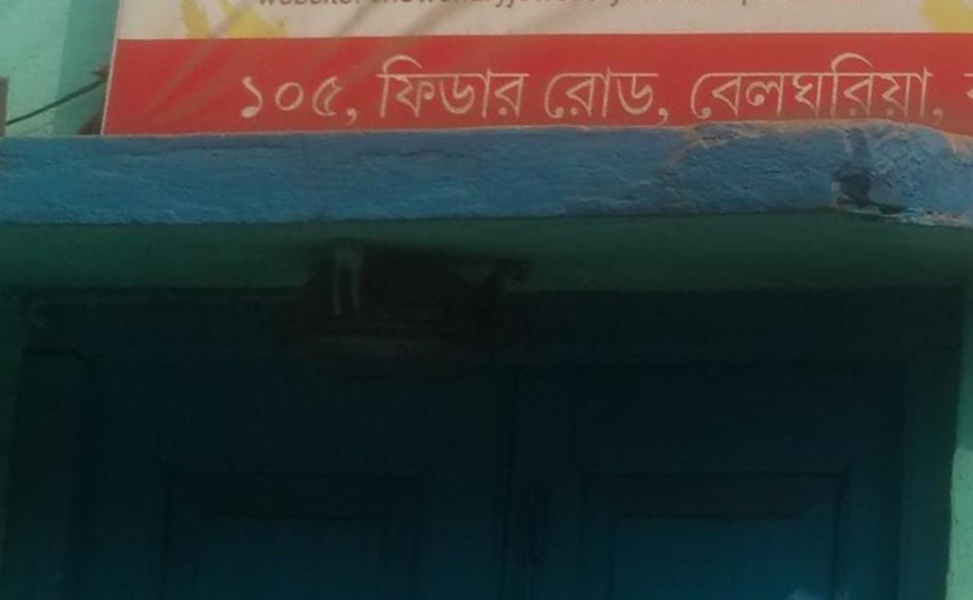text: (929, 52, 945, 128), (689, 52, 704, 128), (705, 52, 720, 128), (721, 52, 736, 128), (737, 52, 752, 128), (753, 52, 768, 128), (769, 52, 784, 128), (785, 52, 800, 128), (801, 52, 816, 128), (817, 52, 832, 128), (833, 52, 848, 128), (849, 52, 864, 128), (865, 52, 880, 128), (881, 52, 896, 128), (897, 52, 912, 128), (913, 52, 928, 128), (385, 52, 400, 122), (401, 52, 416, 122), (417, 52, 432, 122), (433, 52, 448, 122), (449, 52, 464, 122), (465, 52, 480, 122), (481, 52, 496, 122), (497, 52, 512, 122), (513, 52, 528, 122), (561, 65, 576, 125), (577, 65, 592, 125), (593, 65, 608, 125), (609, 65, 624, 125), (625, 65, 640, 125), (641, 65, 656, 125), (241, 75, 256, 128), (257, 75, 272, 128), (273, 75, 288, 128), (289, 75, 304, 128), (305, 75, 320, 128), (321, 75, 336, 128), (337, 75, 352, 128), (657, 65, 669, 125), (376, 52, 384, 122), (353, 75, 361, 128), (553, 65, 560, 125), (961, 72, 973, 102), (529, 52, 533, 122), (237, 75, 240, 128), (257, 1, 272, 7), (273, 1, 288, 7), (289, 1, 304, 7), (305, 1, 320, 7), (321, 1, 336, 7), (337, 1, 352, 7), (353, 1, 368, 7), (369, 1, 384, 7), (385, 1, 400, 7), (401, 1, 416, 7), (417, 1, 432, 7), (433, 1, 448, 7), (449, 1, 464, 7), (465, 1, 480, 7), (481, 1, 496, 7), (497, 1, 512, 7), (513, 1, 528, 7), (529, 1, 544, 7), (545, 1, 560, 7), (561, 1, 576, 7), (577, 1, 592, 7), (593, 1, 608, 7), (609, 1, 624, 7), (625, 1, 640, 7), (641, 1, 656, 7), (657, 1, 672, 7), (673, 1, 688, 7), (689, 1, 704, 7), (705, 1, 720, 7), (721, 1, 736, 7), (737, 1, 752, 7), (753, 1, 768, 7), (769, 1, 784, 7), (785, 1, 800, 7), (801, 1, 816, 7), (817, 1, 832, 7), (687, 52, 688, 128), (249, 1, 256, 7), (833, 1, 838, 7)
